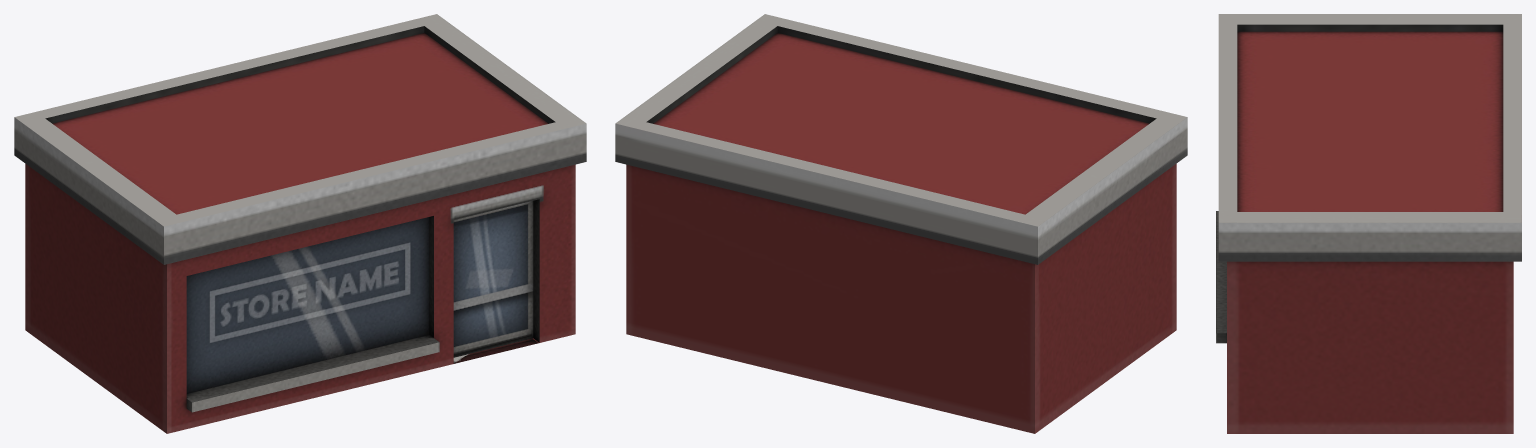
File: House_StoreLargeWindow.FBX
3 views of the same model, side by side, from view 1: azimuth 30°, elevation 25°; view 2: azimuth 150°, elevation 25°; view 3: azimuth 270°, elevation 25° (orthographic).
Parts seen in each view (by area): view 1: DoorAndStore; view 2: DoorAndStore; view 3: DoorAndStore.
Part boxes in pixels (x1,y1,x2,y2): DoorAndStore: [14, 14, 586, 433]; DoorAndStore: [615, 14, 1187, 433]; DoorAndStore: [1216, 14, 1521, 433].
Bounding box in the file's own units: 517 × 248 × 320.
